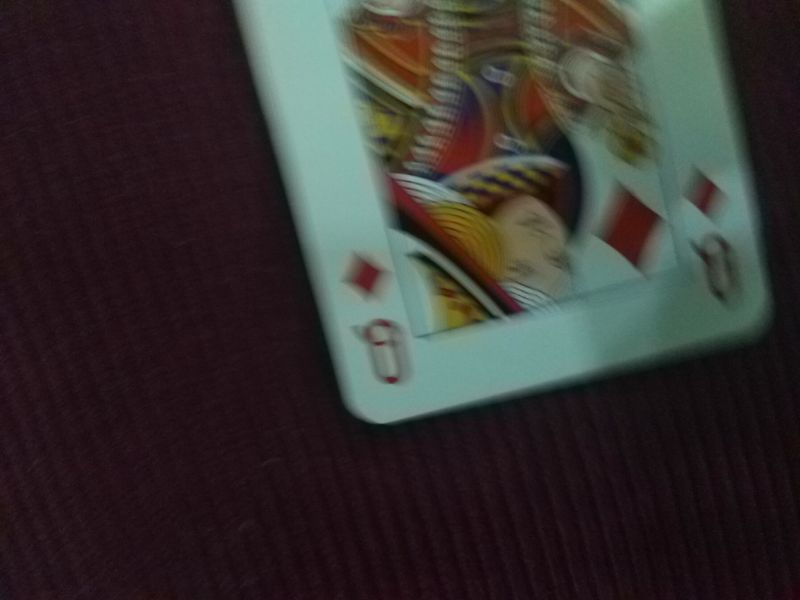Qd: (336, 244, 412, 389), (680, 158, 748, 313)
